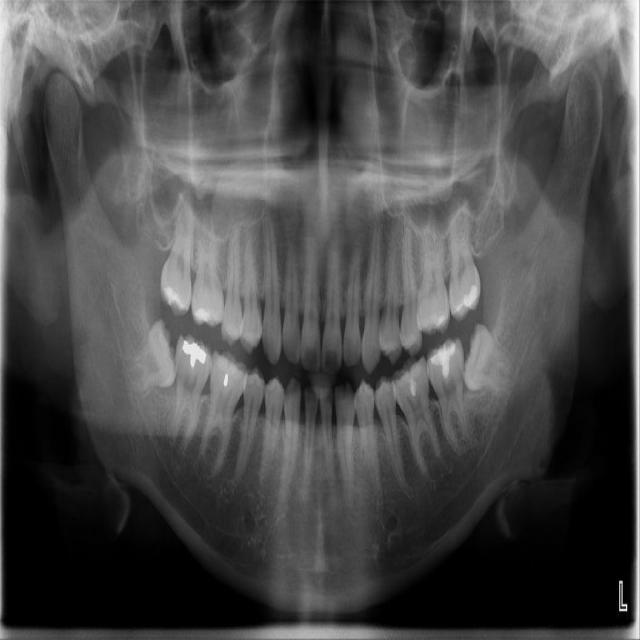52: (195, 346, 258, 407), (415, 332, 478, 393), (146, 262, 203, 320), (173, 335, 214, 386), (449, 268, 481, 322)
73: (615, 616, 626, 624)
BioHorizons Implant: (449, 199, 481, 321)
Biomet 3i Implant: (459, 323, 528, 401)
Blue Sky Bio Implant: (425, 337, 470, 451)
Caries: (158, 190, 197, 317)
Implant: (170, 334, 213, 454)
Keystone Dental Implant: (114, 318, 186, 399)
